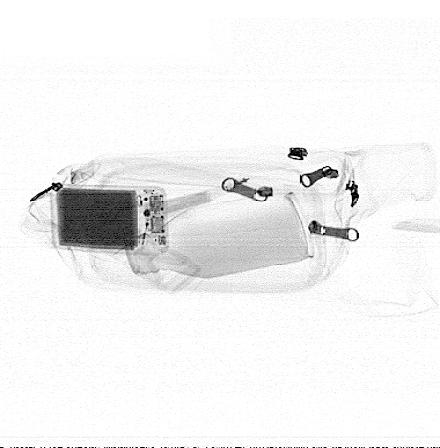Powerbank: (48, 182, 170, 256)
